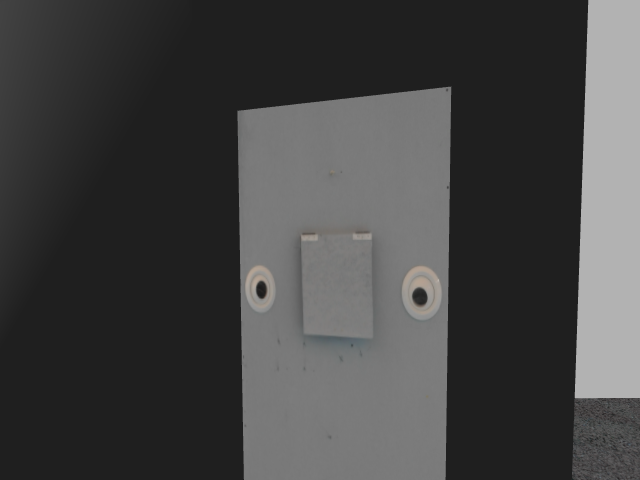facade: (243, 228, 443, 342)
